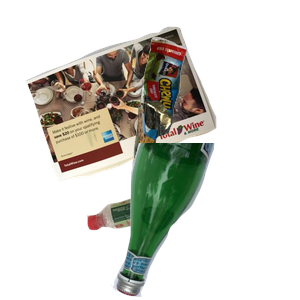glass: (109, 143, 300, 300)
paper: (23, 24, 232, 199)
plastic: (84, 191, 242, 300)
trash: (130, 34, 300, 203)
